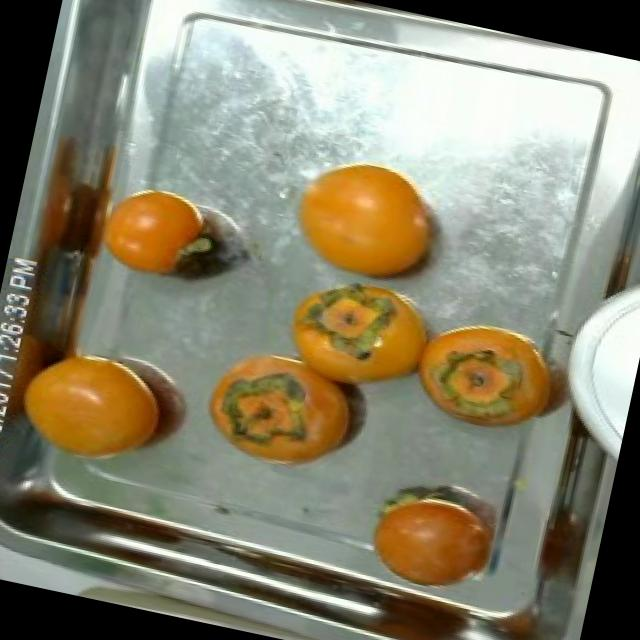Fruit: (270, 136, 466, 304), (393, 298, 581, 454), (185, 332, 374, 486), (0, 331, 181, 485), (348, 468, 512, 604), (90, 173, 224, 295)
